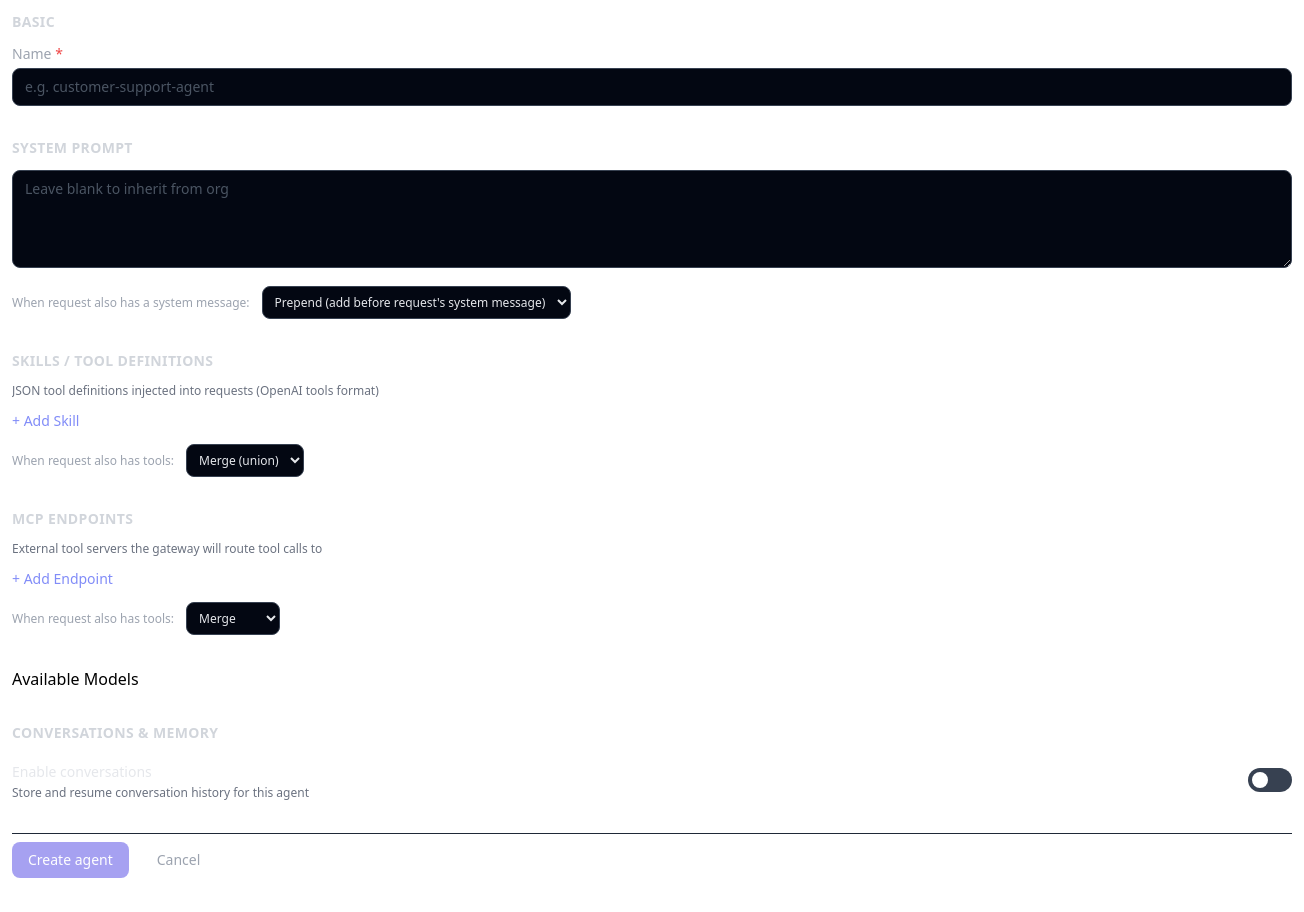
Test: AgentEditor › create mode (agent=null) › shows error message when api.createAgent fails
This screenshot has width=1304, height=912.
Type "My Agent" into the field with placeholder "e.g. customer-support-agent" at (652, 87), box [12,68,1292,106]
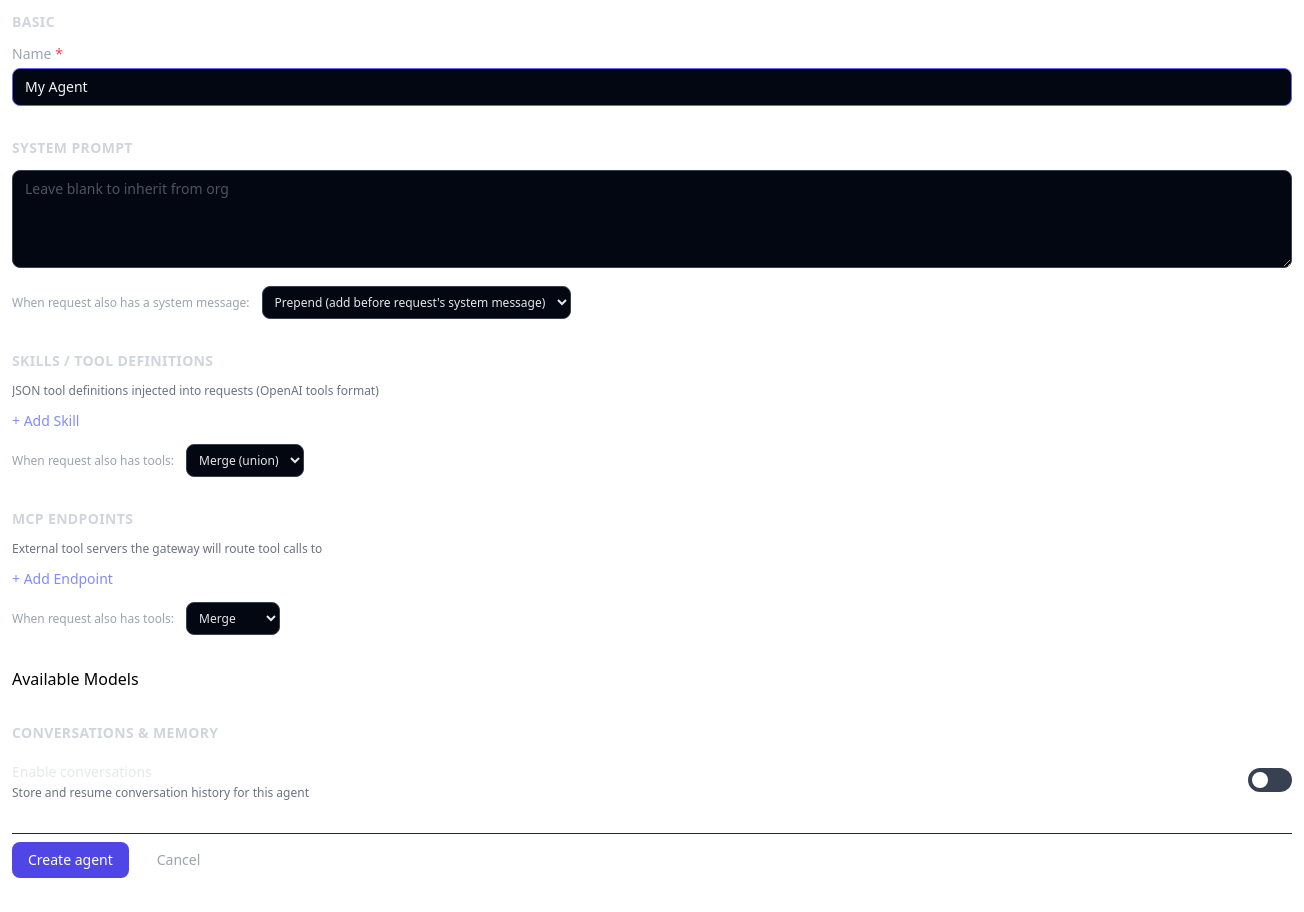
Click the button "Create agent" at (70, 860), box [12,842,129,878]
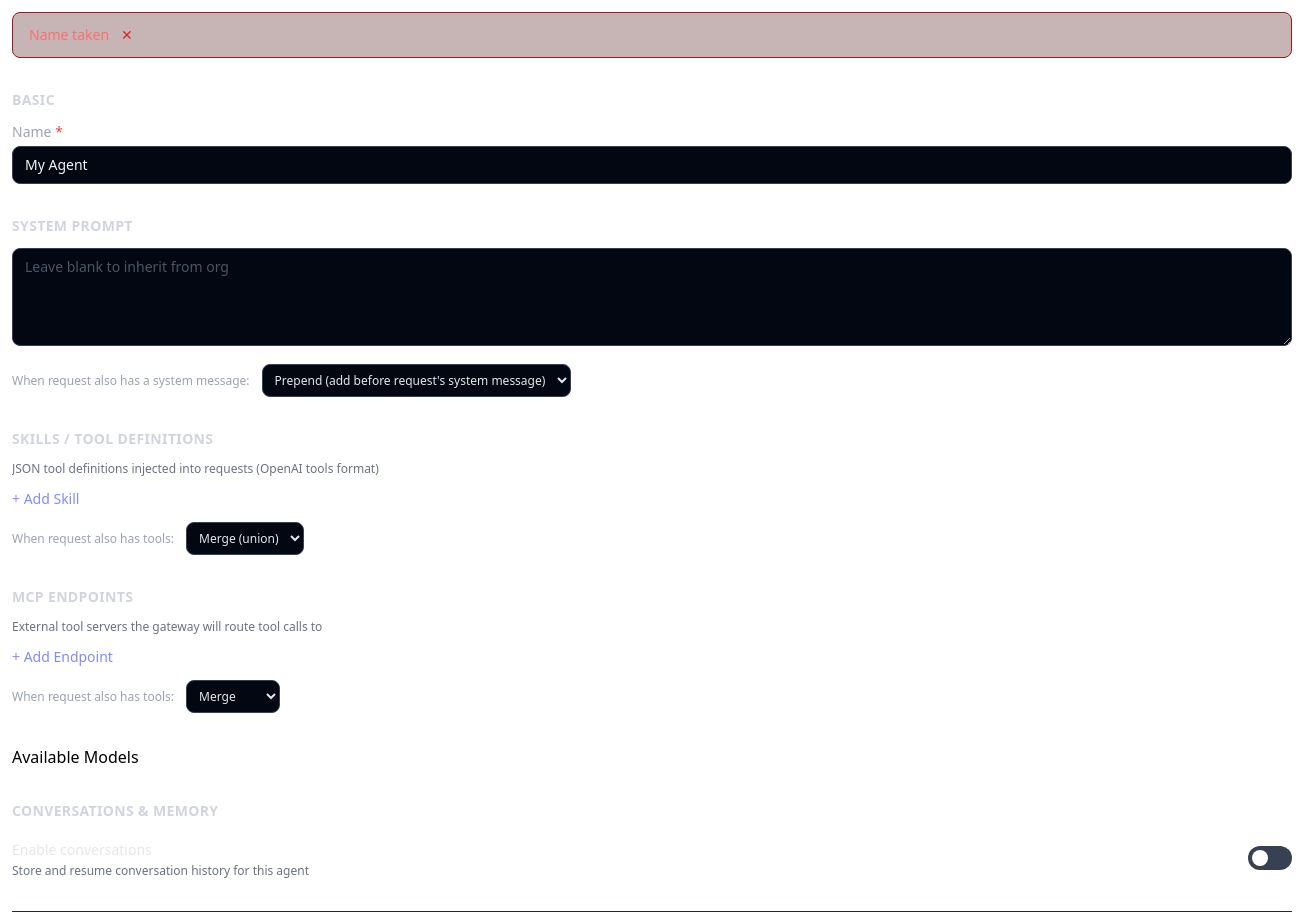
Check: the text "Name taken" is shown, box [29,25,109,44]
